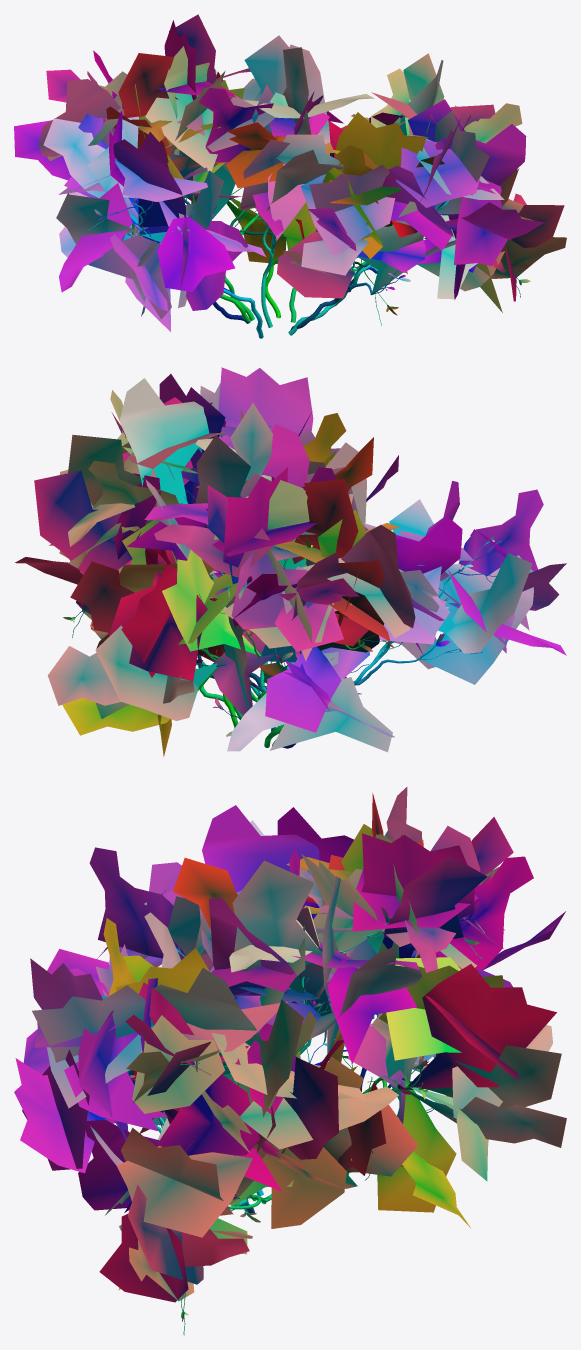
The model's file is Downy_Willow_wknlfiuqx_Mid_wknlfiuqx_VarA_LOD2.fbx.
The picture shows the model from 3 angles, top to bottom: view 1: azimuth 30°, elevation 25°; view 2: azimuth 150°, elevation 25°; view 3: azimuth 270°, elevation 25°; orthographic projection. The views are drawn at different scales.
Parts seen in each view (by area): view 1: _vnwm_VarA_LOD3; view 2: _vnwm_VarA_LOD3; view 3: _vnwm_VarA_LOD3.
Part boxes in pixels (x1=…): _vnwm_VarA_LOD3: x1=14, y1=14, x2=566, y2=338; _vnwm_VarA_LOD3: x1=15, y1=367, x2=566, y2=756; _vnwm_VarA_LOD3: x1=14, y1=787, x2=566, y2=1335.
Bounding box in the file's own units: 330 × 187 × 257.
